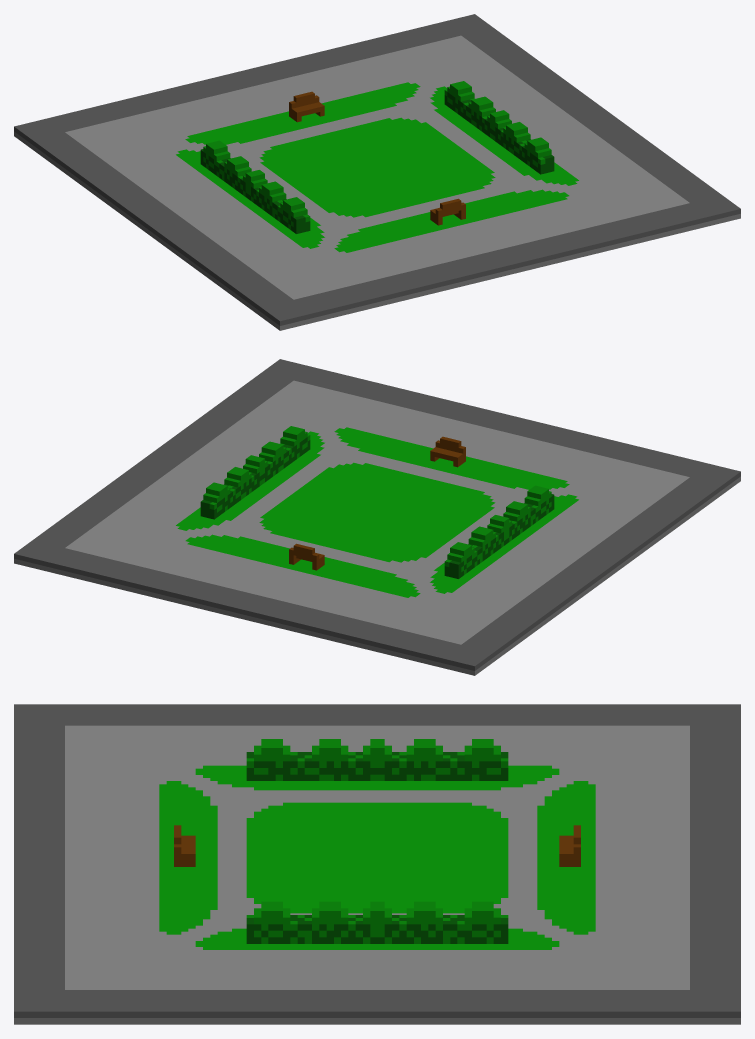
File: --21-Park.obj
The picture shows the model from 3 angles, top to bottom: view 1: azimuth 30°, elevation 25°; view 2: azimuth 150°, elevation 25°; view 3: azimuth 270°, elevation 25°; orthographic projection. The views are drawn at different scales.
Visible parts, largest first — view 1: Park; view 2: Park; view 3: Park.
Boxes of the visible parts, x1=… form: Park: x1=14, y1=14, x2=740, y2=330; Park: x1=14, y1=359, x2=740, y2=675; Park: x1=14, y1=704, x2=740, y2=1024.
Bounding box in the file's own units: 10 × 0.7 × 10.
1 material, 1 textured.
